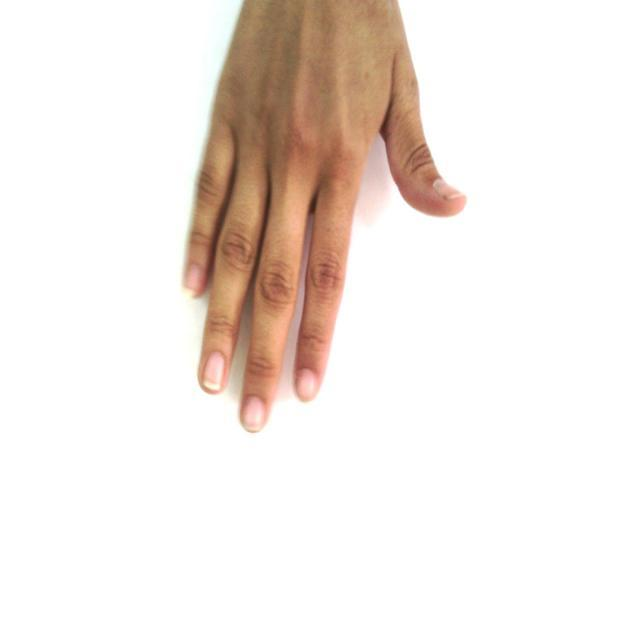Fingernail: (204, 352, 224, 389), (243, 398, 264, 430), (297, 370, 316, 400), (434, 180, 462, 199), (186, 266, 203, 293)
